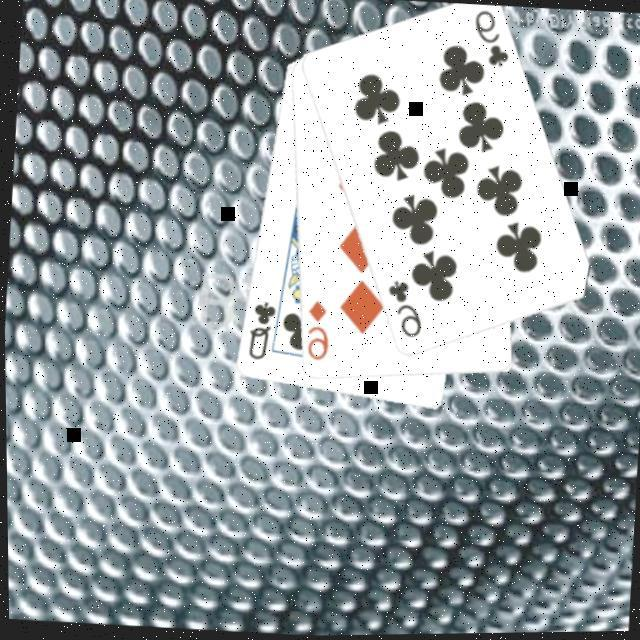9C: (377, 278, 424, 344), (465, 8, 512, 74)
9D: (298, 298, 332, 366)
QC: (239, 299, 276, 365)
